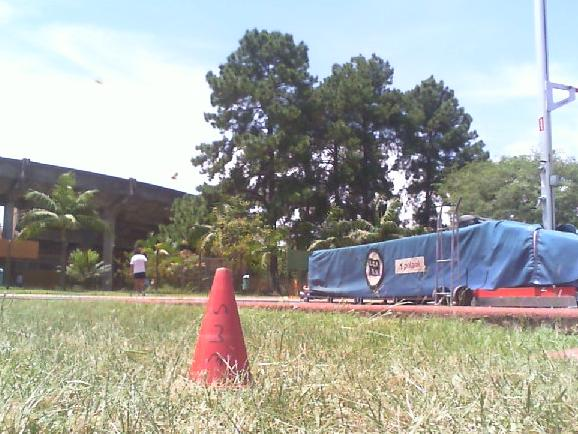0 cone: (189, 268, 258, 387)
